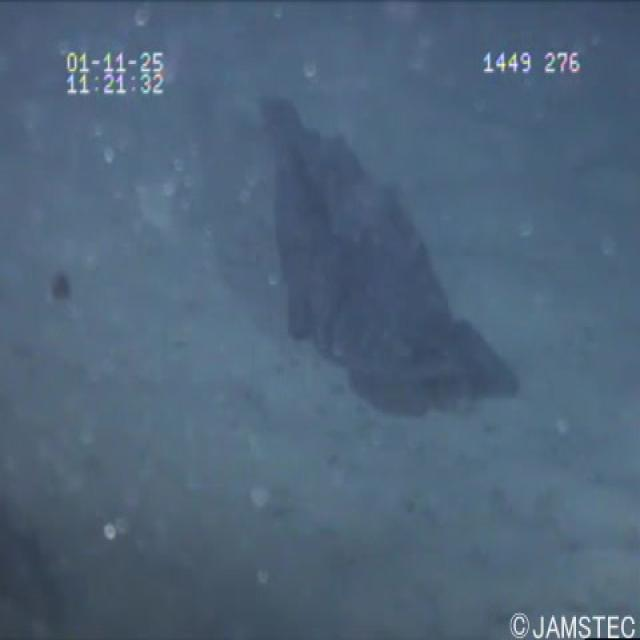plastic: (241, 89, 544, 446)
